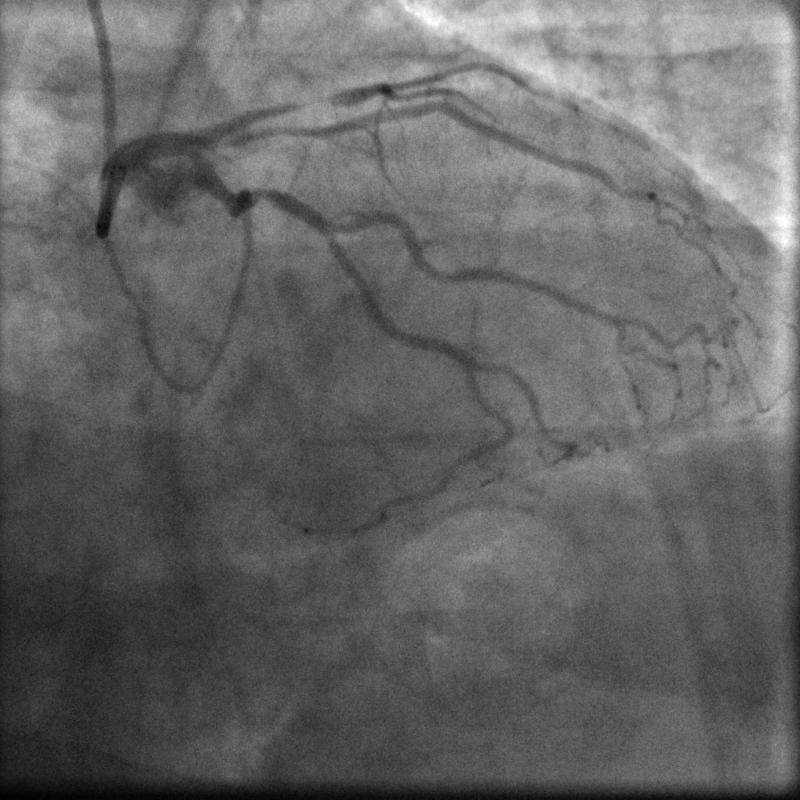Stenosis: (249, 180, 284, 212)
